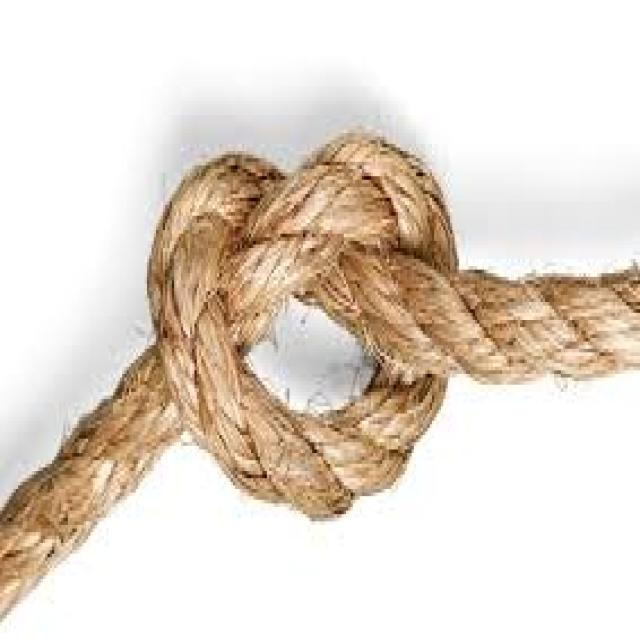rope: (0, 129, 640, 622)
